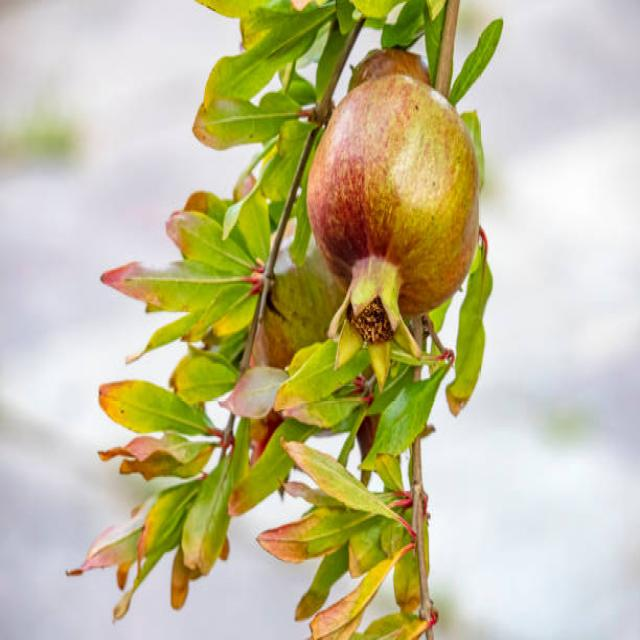Unripe: (308, 73, 482, 390)
